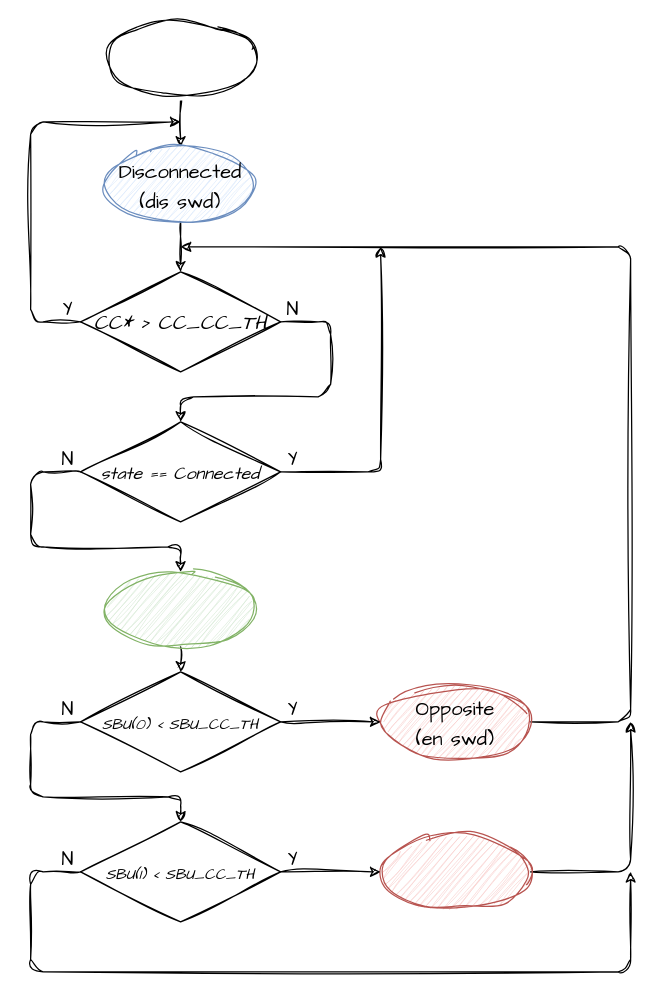
Some shapes in this 663 by 1004 pixel diagram are drawn without their labels. Each missing label, with the centre of its shape:
Connected: the point at 180,609
Forward (en swd): the point at 455,871
Init: the point at 180,59
